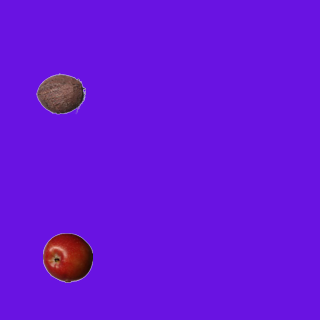Apple Braeburn: (42, 232, 92, 282)
Cocos: (35, 68, 85, 118)
